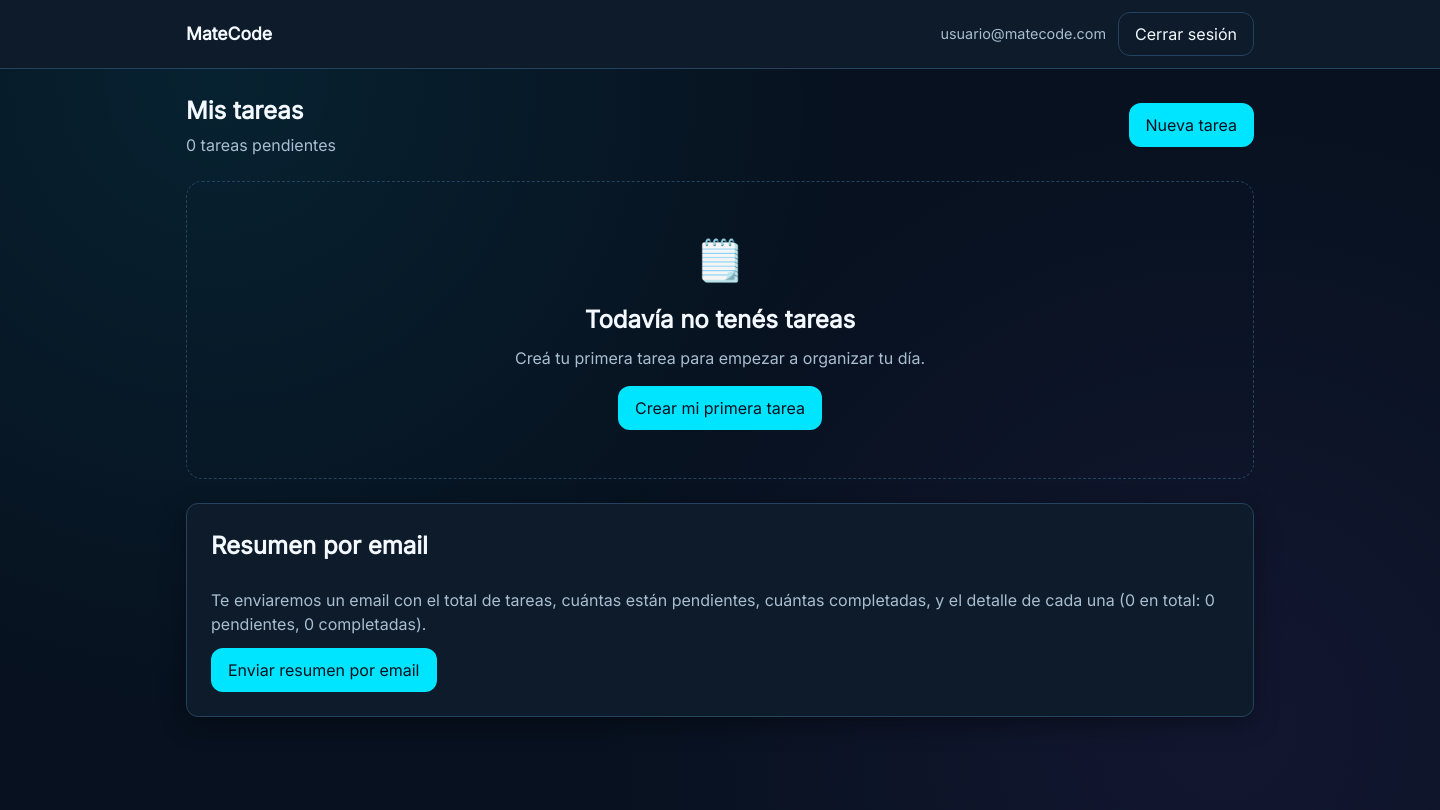
Test: TasksPage › muestra el formulario al hacer clic en 'Nueva tarea', y lo oculta al cancelar
Expected: the heading "Todavía no tenés tareas" is shown, [585,305,855,334]
Click the button "Nueva tarea": {"x": 1191, "y": 125} [1128,103,1254,147]
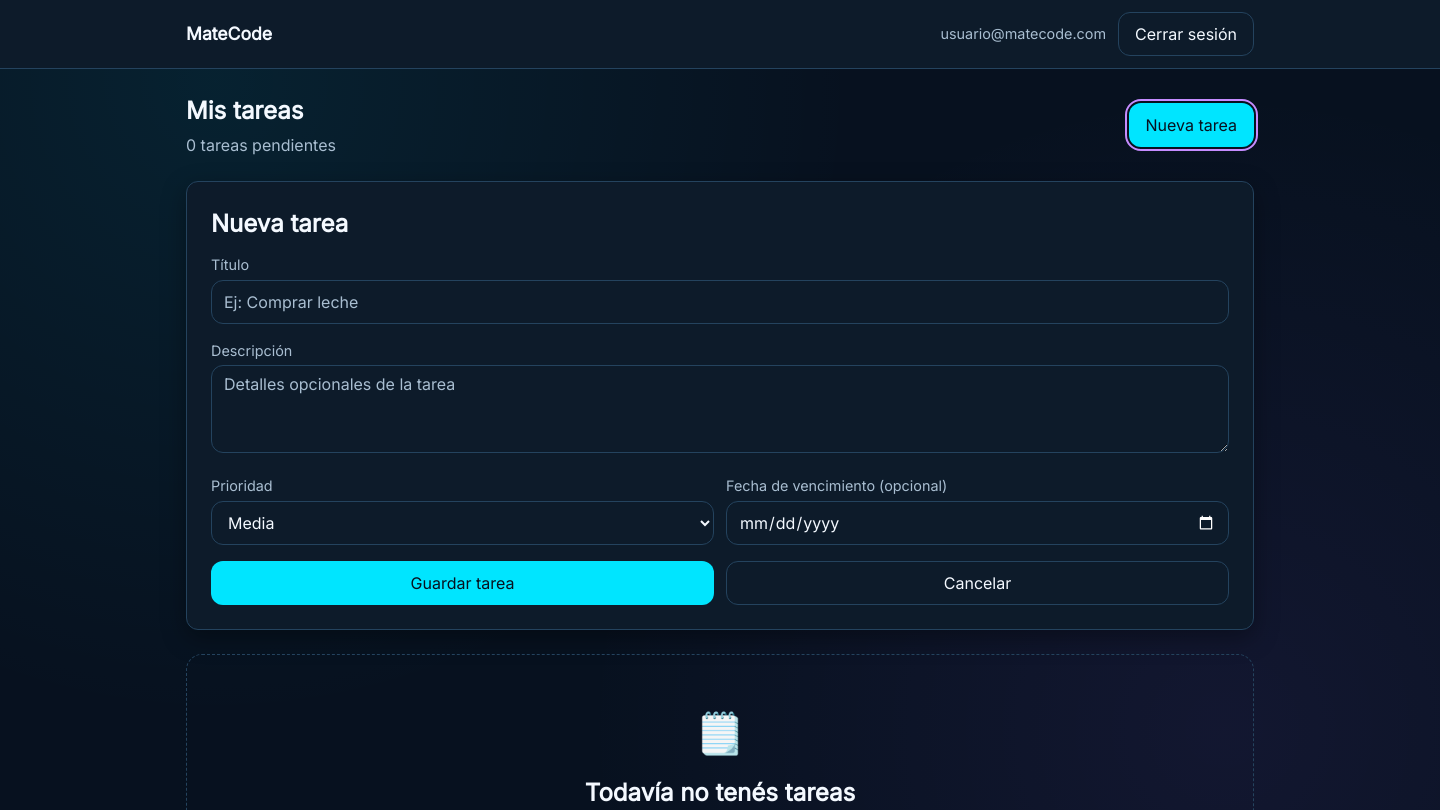
Now the field labelled "Título" is shown, box [211,280,1229,324]
Click the button "Cancelar": {"x": 978, "y": 583} [726,561,1229,605]
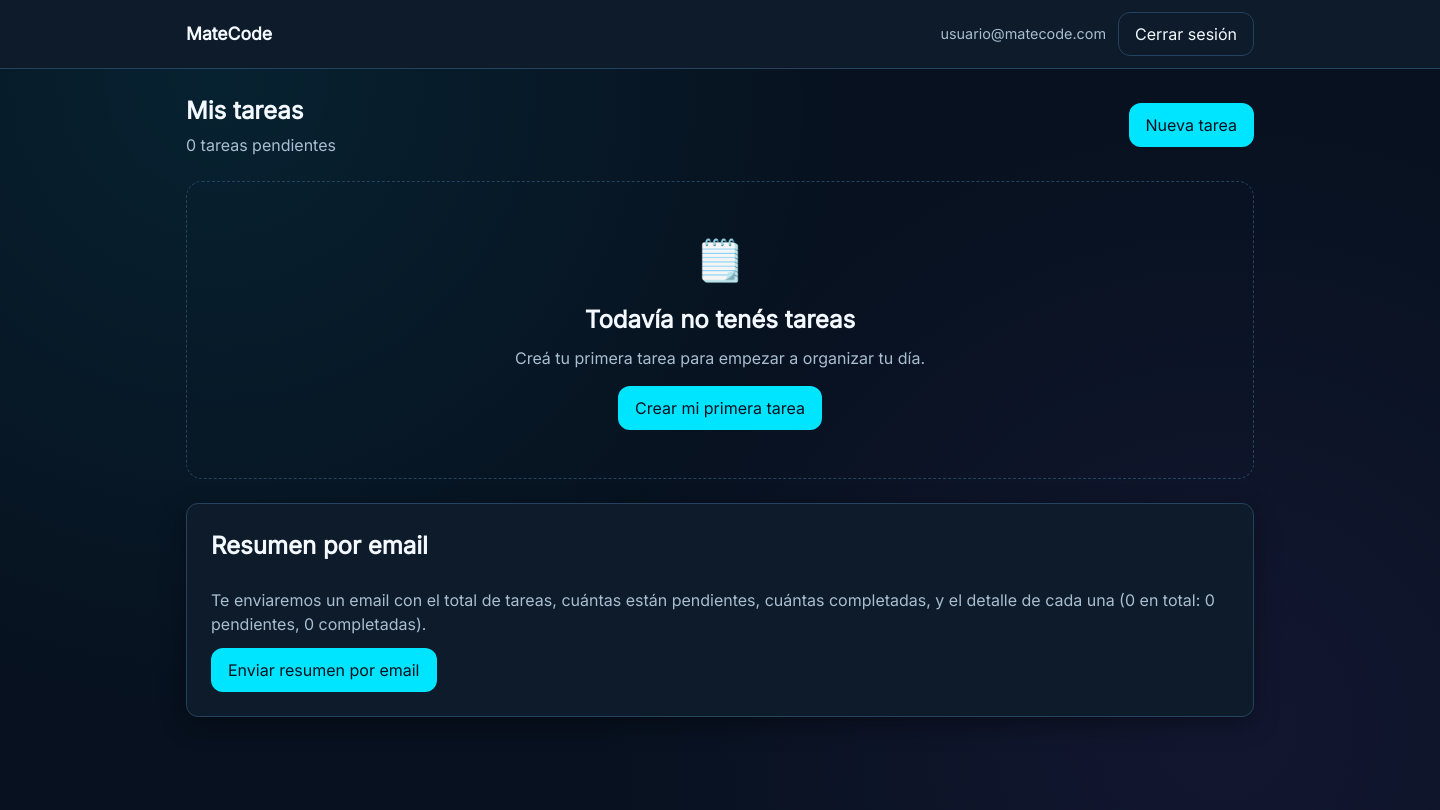
Now the label labelled "Título" is gone
